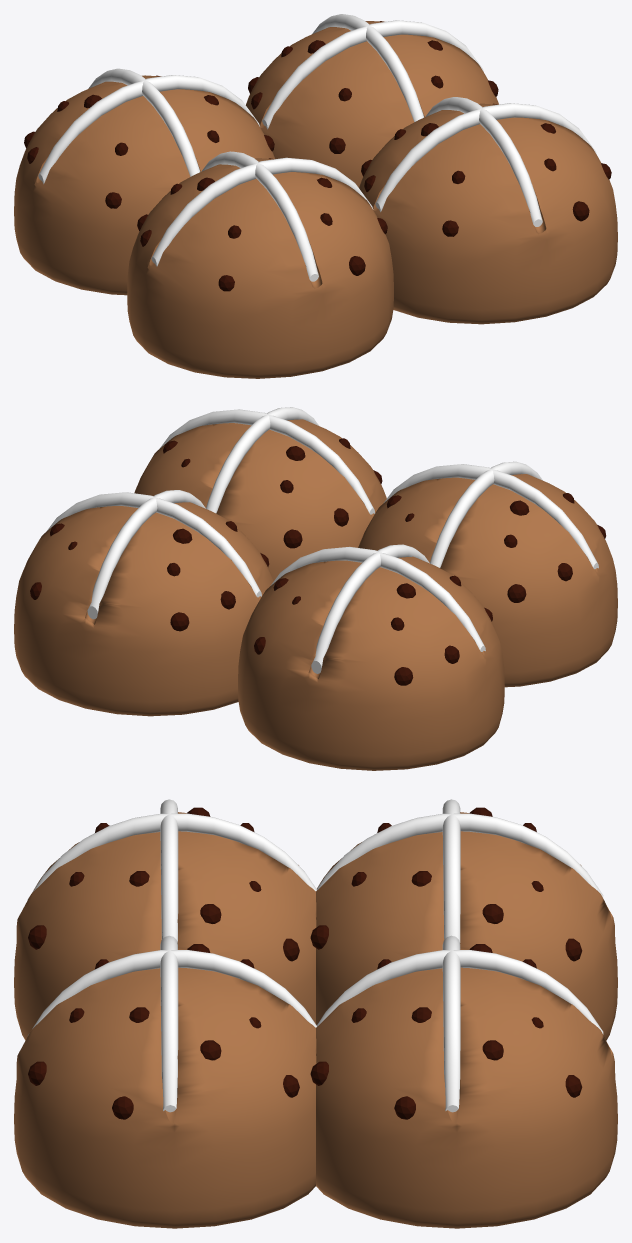
Rendered from HotCrossBuns_250.gltf.
3 renders of one model, top to bottom at view 1: azimuth 30°, elevation 25°; view 2: azimuth 150°, elevation 25°; view 3: azimuth 270°, elevation 25°, orthographic. The views are drawn at different scales.
Visible parts, largest first — view 1: node-0; view 2: node-0; view 3: node-0.
Part boxes in pixels (x1,y1,x2,y2): node-0: (14, 14, 617, 378); node-0: (14, 407, 617, 770); node-0: (14, 799, 617, 1228).
Bounding box in the file's own units: 68.23 × 24.41 × 62.46.
